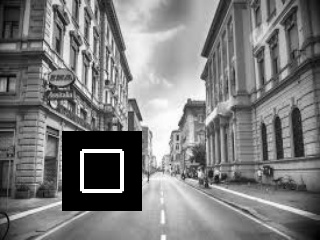square: (62, 131, 141, 211)
